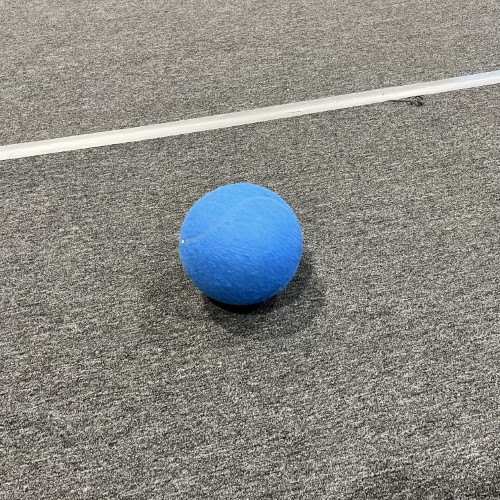blue: (176, 181, 306, 307)
